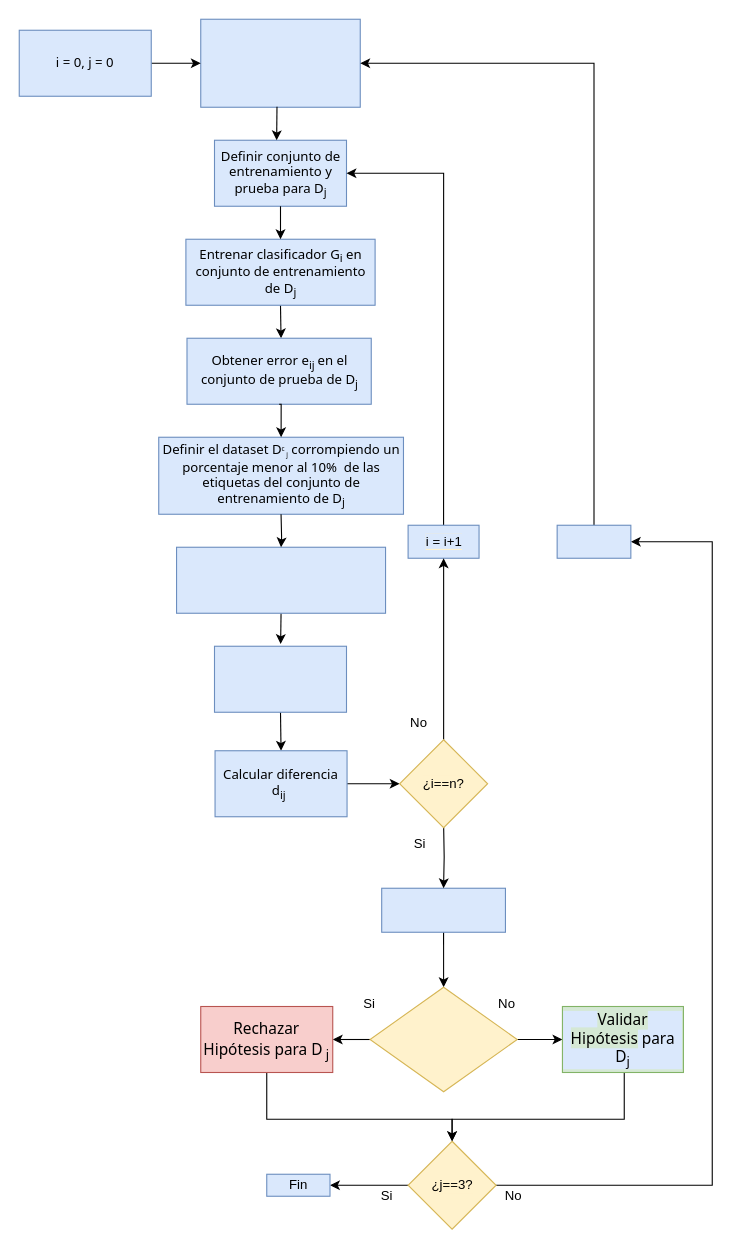
Image size: 740x1249. Some labels were removed from this diagram. Each missing label, with the box of its shape:
Calculamos P value.: (381, 887, 505, 932)
Dividir D j en conjunto de entrada y salida.: (200, 18, 360, 107)
Entrenar clasificador G i en conjunto de entrenamiento de D c j: (175, 546, 386, 613)
j = j+1: (556, 524, 631, 558)
Obtener error e c ij en conjunto de prueba de D j: (213, 645, 346, 712)
¿P(Z < P value)< α ?: (369, 986, 517, 1092)
